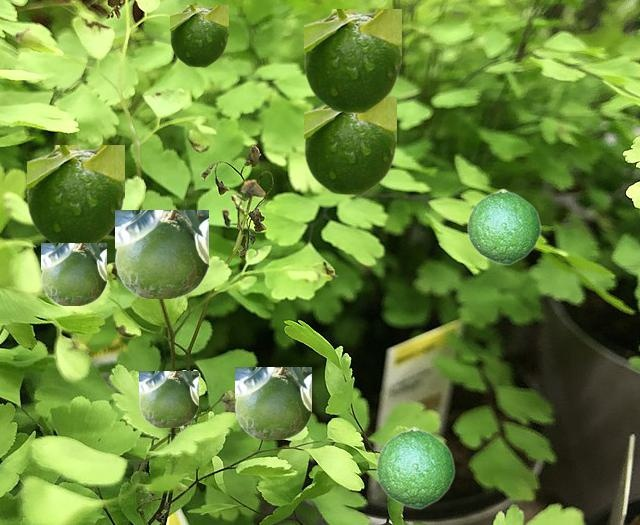dalandan: (304, 9, 400, 112), (27, 145, 123, 242), (304, 97, 395, 194), (115, 210, 207, 297), (375, 426, 454, 508), (466, 188, 540, 264), (235, 367, 310, 438), (41, 243, 105, 304), (170, 5, 227, 66), (139, 371, 197, 426)
